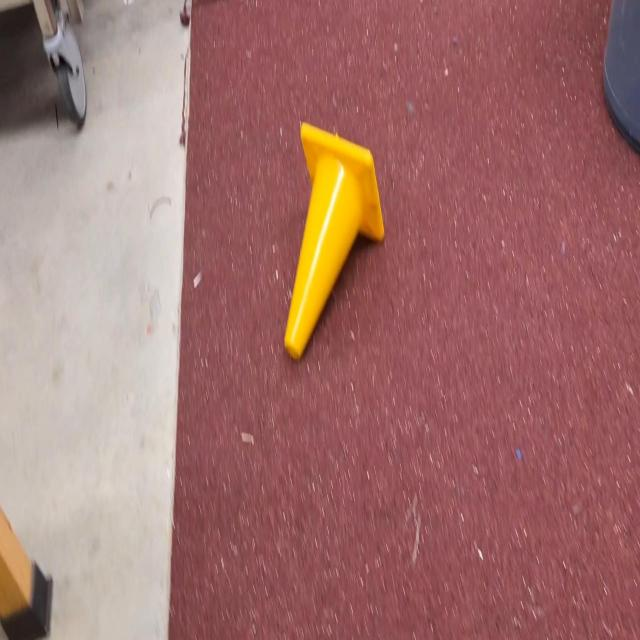frc_cone: (283, 121, 385, 362)
